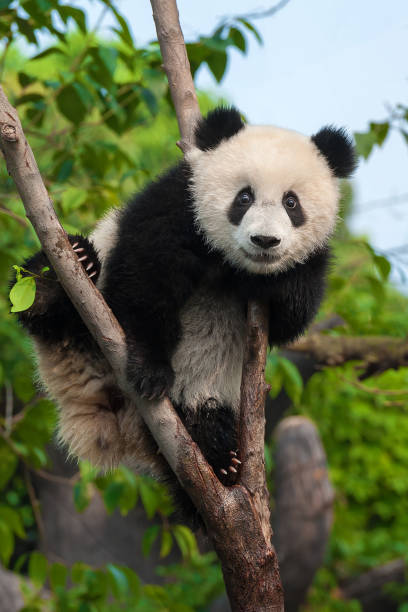panda: (163, 95, 374, 282)
